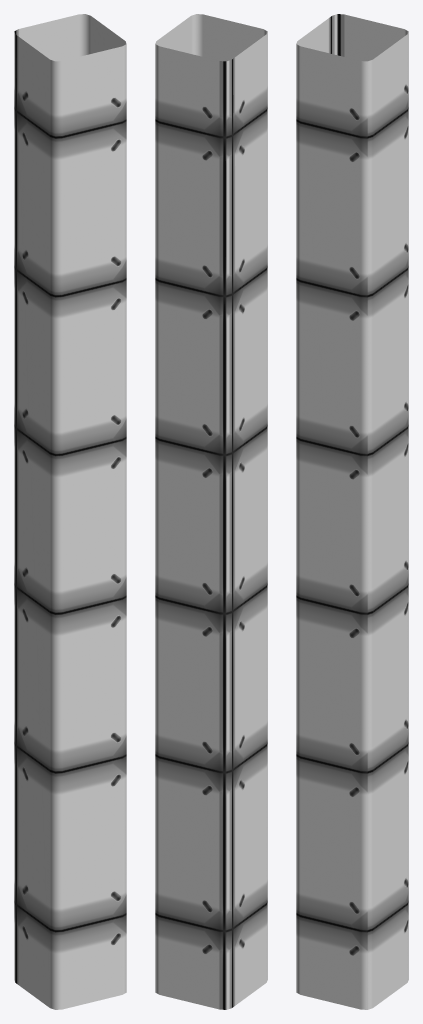
Rendered from MDL_Trim_1X6.fbx.
3 renders of one model, left to right at view 1: azimuth 30°, elevation 25°; view 2: azimuth 150°, elevation 25°; view 3: azimuth 330°, elevation 25°, orthographic.
Visible parts, largest first — view 1: trim1x6; view 2: trim1x6; view 3: trim1x6.
Part boxes in pixels (<box>): trim1x6: <box>14,14,126,1009</box>; trim1x6: <box>155,14,267,1009</box>; trim1x6: <box>296,14,408,1009</box>.
Bounding box in the file's own units: 0.5 × 6 × 0.5.
